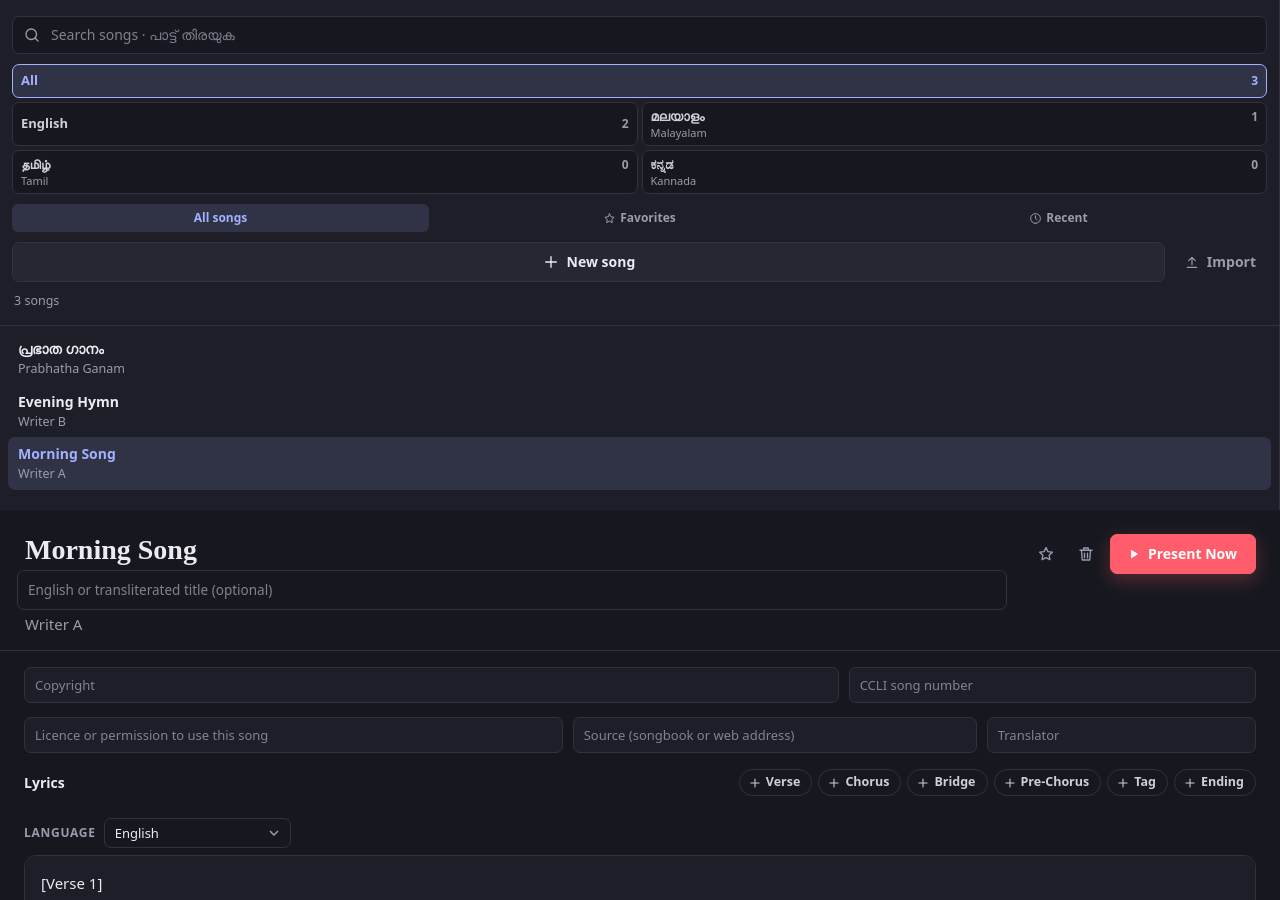
Test: Songs: finding a song › keeps an empty Kannada folder visible
Expected: the field labelled "Search songs" is shown, x1=49 y1=19 x2=1262 y2=51
Expected: the 2nd text with class "song-folder-count" reads "0", x1=1251 y1=156 x2=1258 y2=173
Click the radio button labelled "Kannada" at (673, 181), box x1=642 y1=150 x2=1267 y2=194
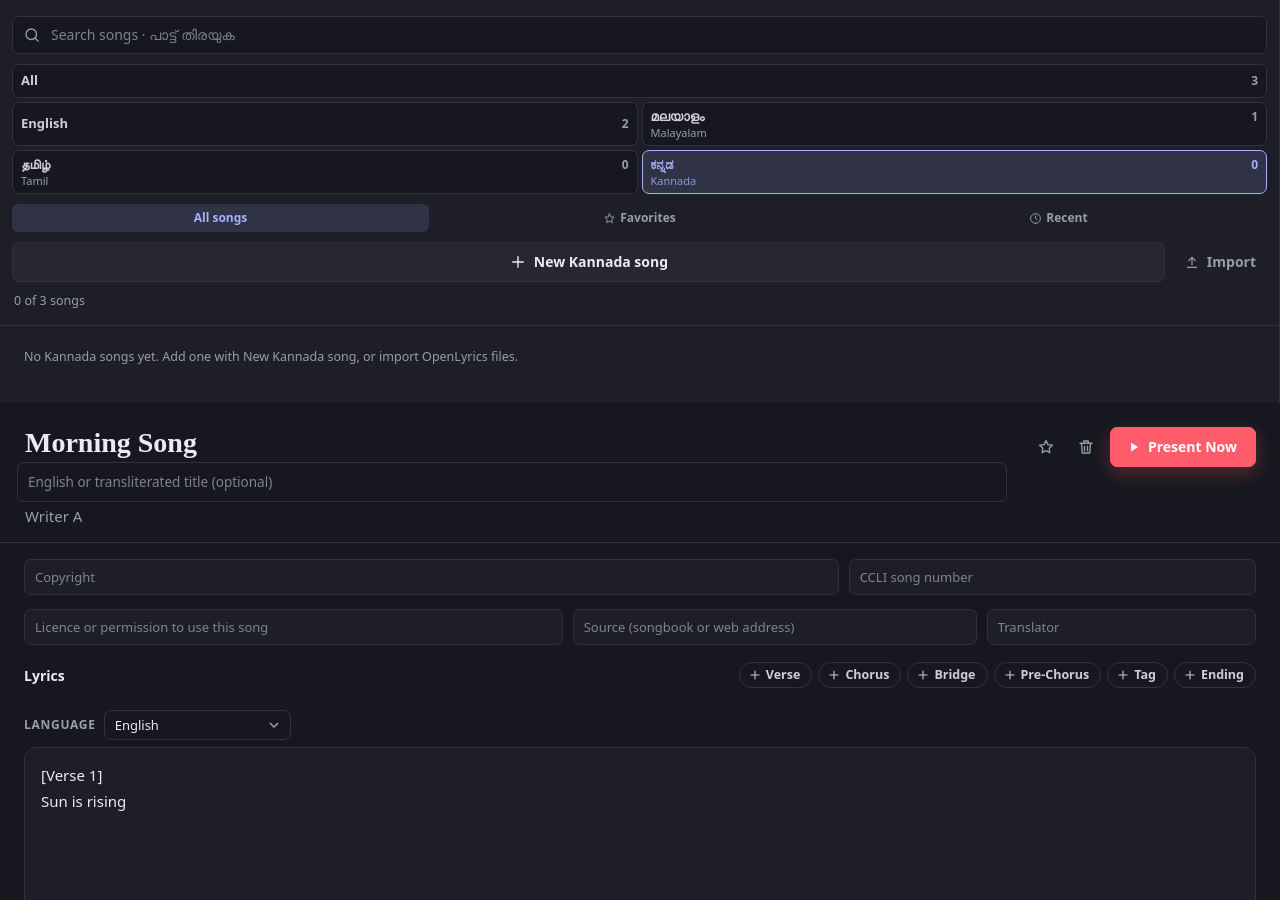
Result: the list item "No Kannada songs yet" is shown at x1=24 y1=348 x2=518 y2=365
